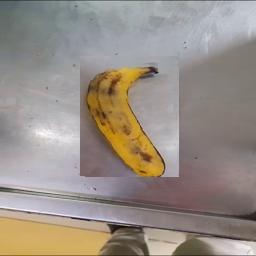Banana Semirotten: (80, 57, 179, 178)
